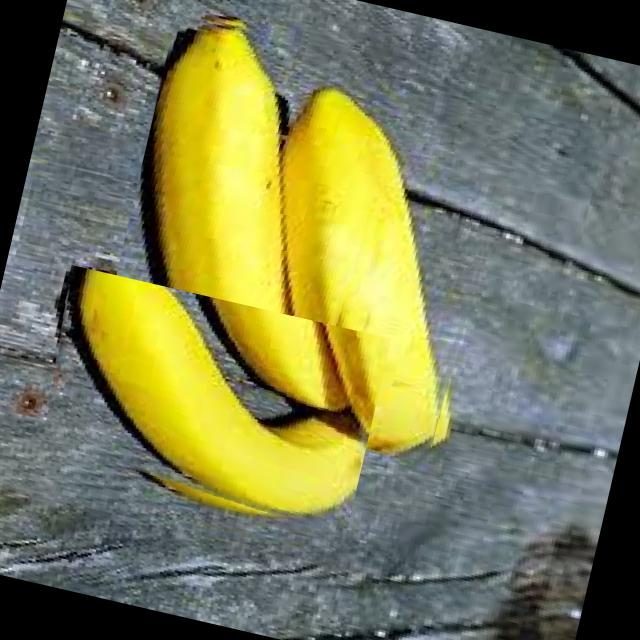Organic: (94, 3, 424, 424), (254, 75, 519, 466), (22, 264, 390, 539)
